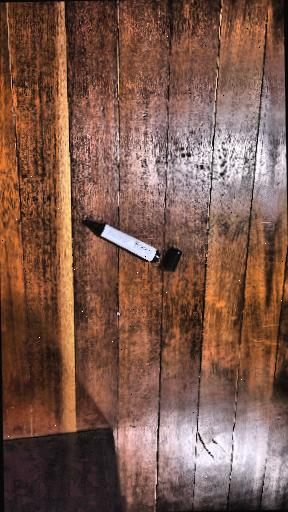marcador negro: (86, 220, 160, 261)
